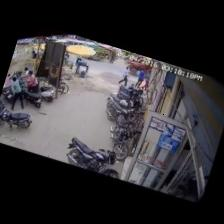person: (11, 77, 23, 110), (27, 71, 37, 93), (119, 66, 129, 85), (135, 70, 145, 88), (142, 72, 151, 90), (4, 74, 12, 87), (24, 67, 28, 76)
